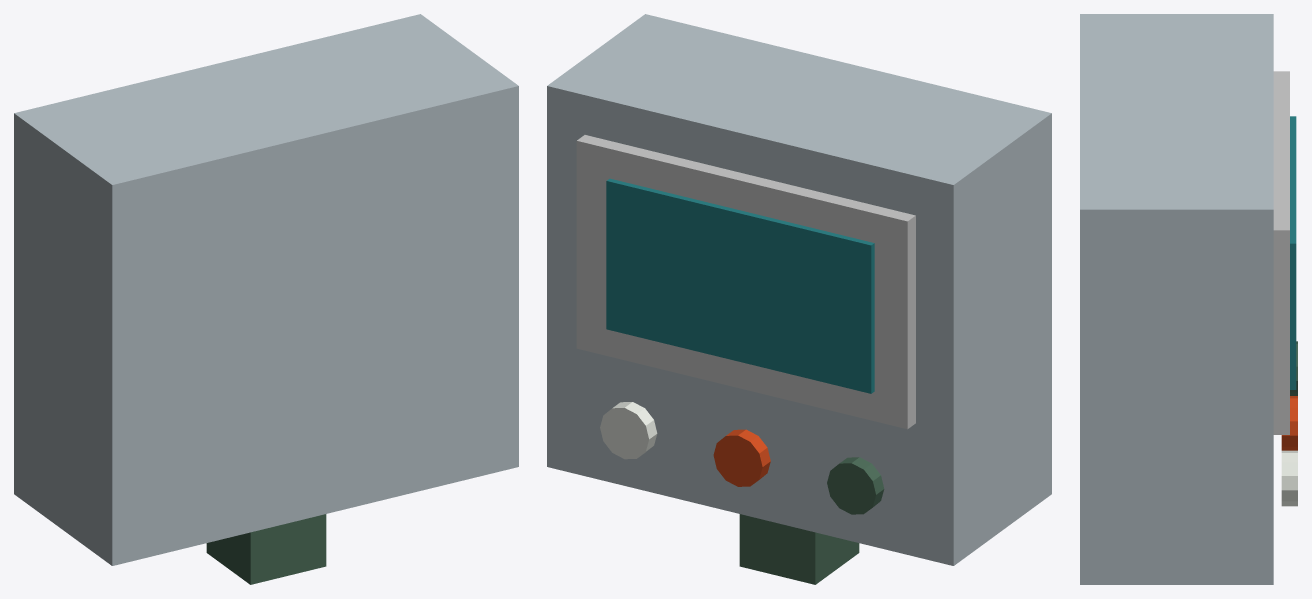
Rendered from cell_53.obj.
3 renders of one model, left to right at view 1: azimuth 30°, elevation 25°; view 2: azimuth 150°, elevation 25°; view 3: azimuth 270°, elevation 25°, orthographic.
Bounding box in the file's own units: 0.86 × 0.93 × 0.405.
